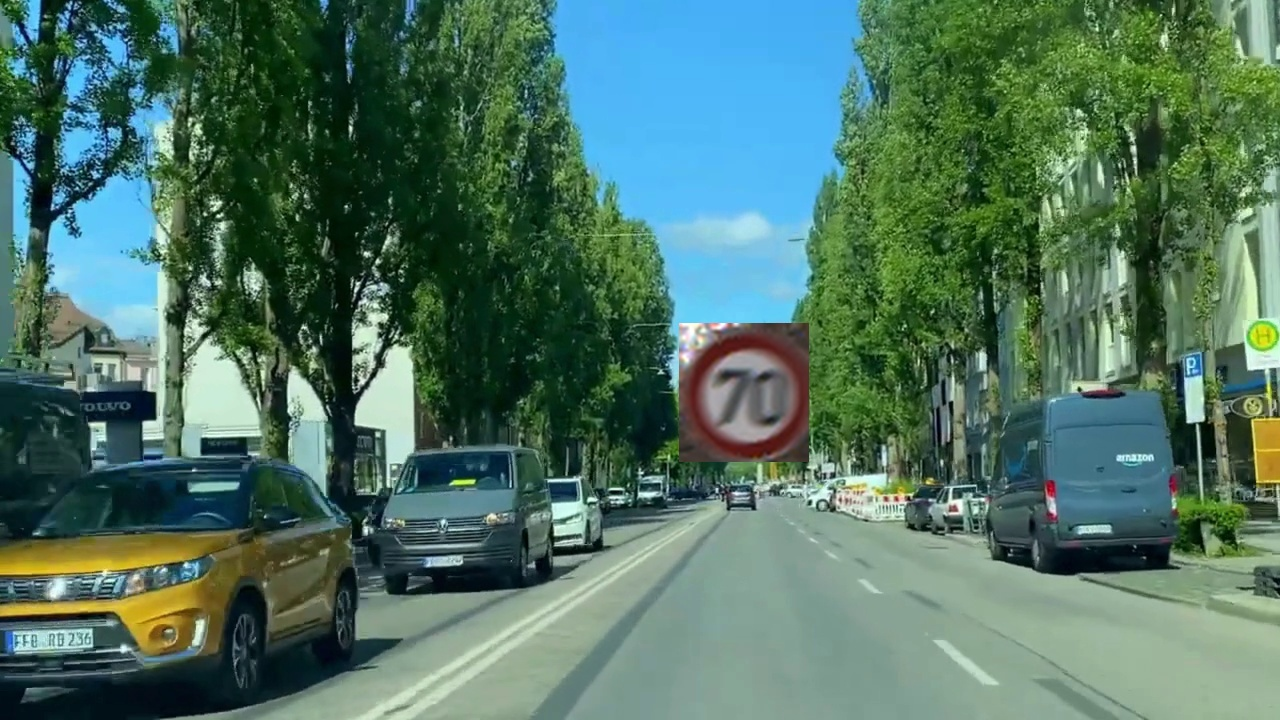Speed 70: (679, 323, 809, 462)
